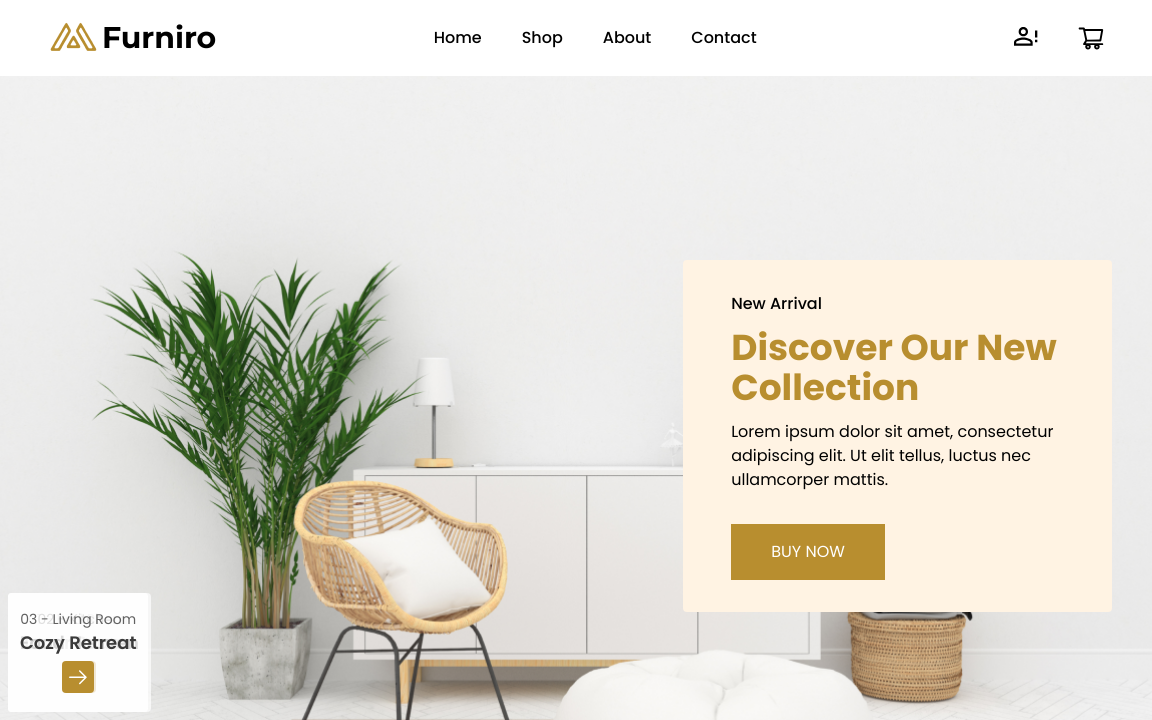
Test: <Header /> › should open cart modal when clicking in Cart option
Click the picture with alt text "cart-icon" at (1091, 38), box [1078,26,1104,50]
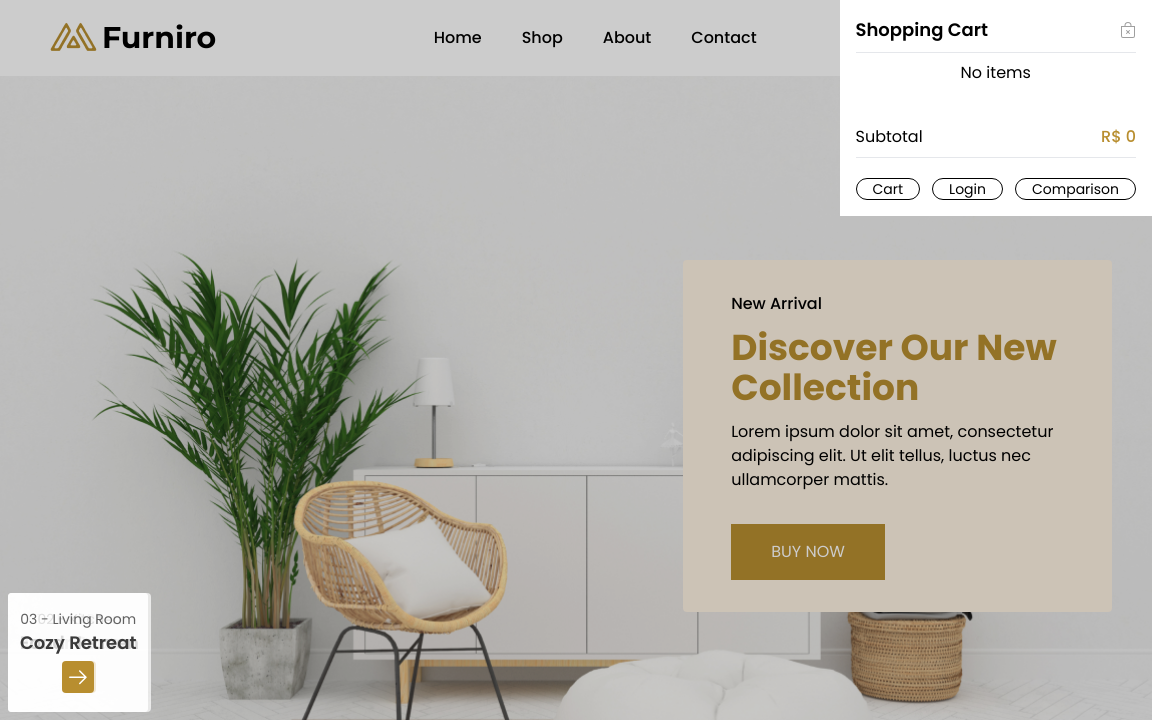
Now the text "Shopping Cart" is shown, box [856,16,988,44]
